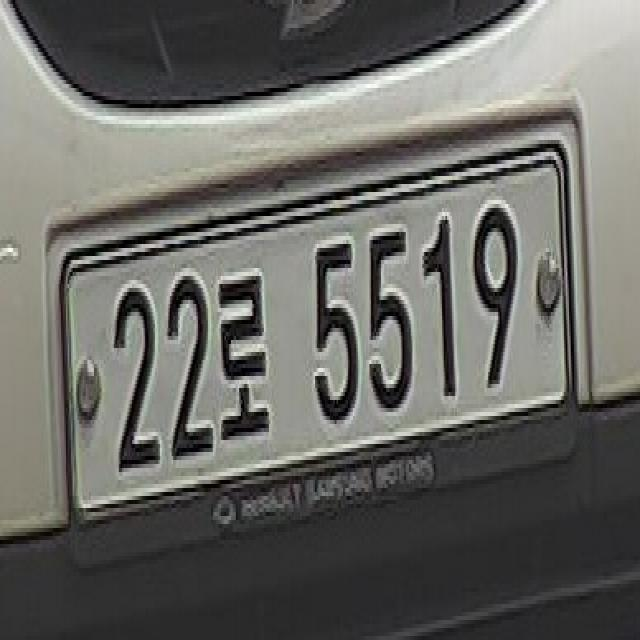1: (418, 204, 466, 417)
2: (108, 268, 165, 486), (162, 263, 221, 468)
5: (365, 211, 422, 423), (308, 234, 363, 436)
9: (463, 188, 535, 402)
license_plate: (68, 155, 569, 517)
lo: (215, 262, 284, 451)
